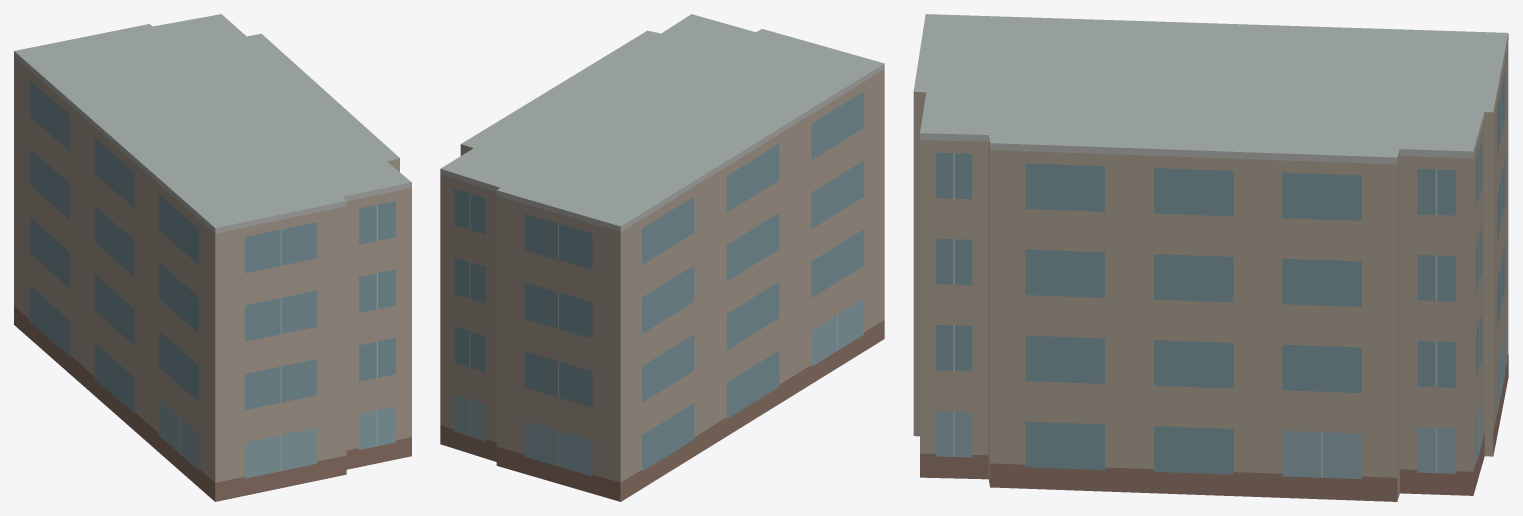
The model's file is survey-upis-32494371.glb.
The picture shows the model from 3 angles, left to right: view 1: azimuth 30°, elevation 25°; view 2: azimuth 150°, elevation 25°; view 3: azimuth 270°, elevation 25°; orthographic projection. The views are drawn at different scales.
Visible parts, largest first — view 1: survey-upis-32494371.tmp; view 2: survey-upis-32494371.tmp; view 3: survey-upis-32494371.tmp.
Part boxes in pixels (bbox=[...]): survey-upis-32494371.tmp: bbox=[14, 14, 411, 501]; survey-upis-32494371.tmp: bbox=[440, 14, 884, 501]; survey-upis-32494371.tmp: bbox=[913, 14, 1508, 501].
Bounding box in the file's own units: 10.92 × 12.2 × 19.12.
